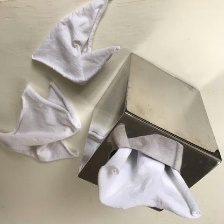tissue: (91, 142, 210, 224), (25, 0, 127, 89), (0, 75, 87, 171)
